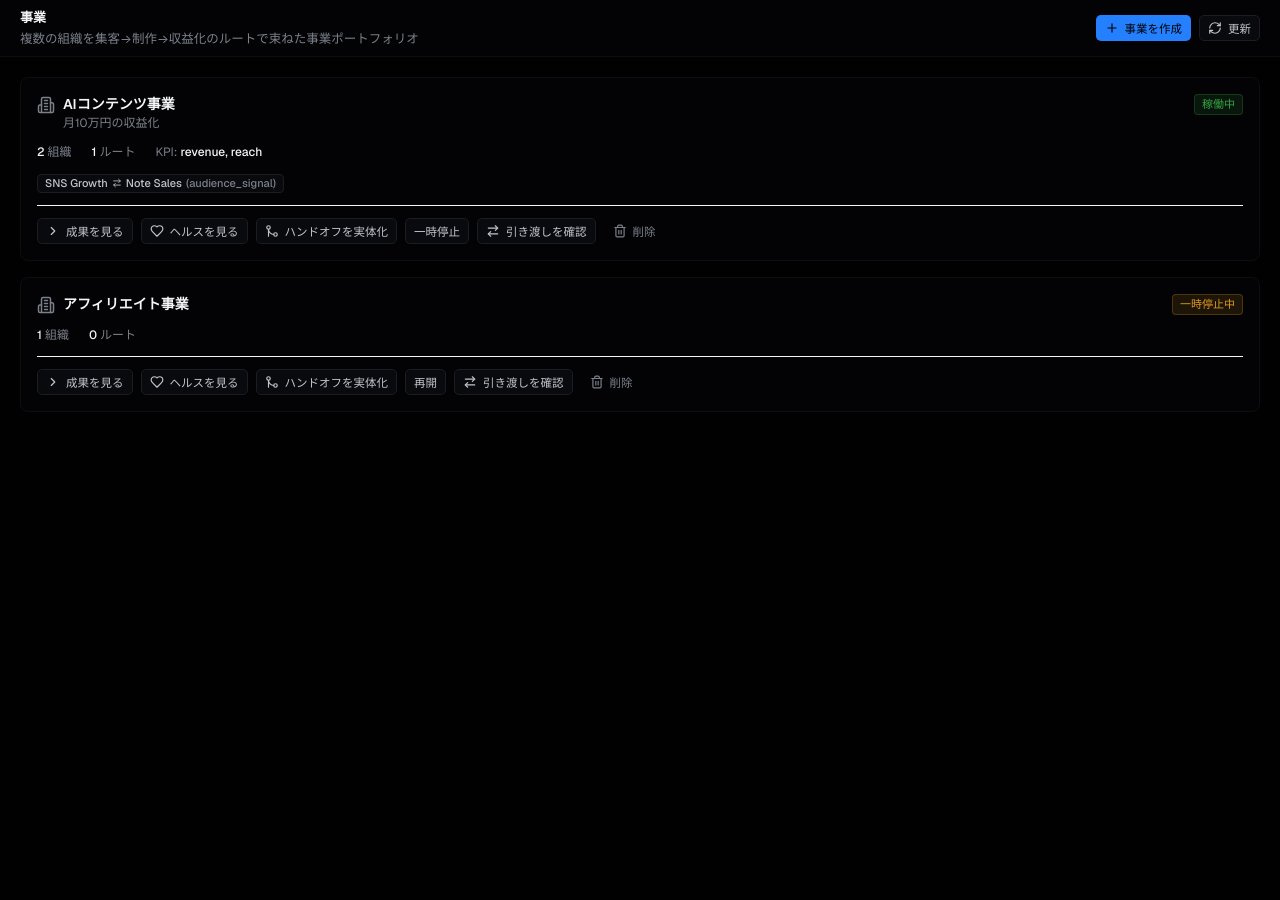
成果パネルを再クリックで閉じる
This screenshot has width=1280, height=900.
Expected: the text "AIコンテンツ事業" is shown, 63,94 -> 175,115
Click the button "成果を見る" below "SNS Growth" at (85, 231), box 37,218 -> 132,244
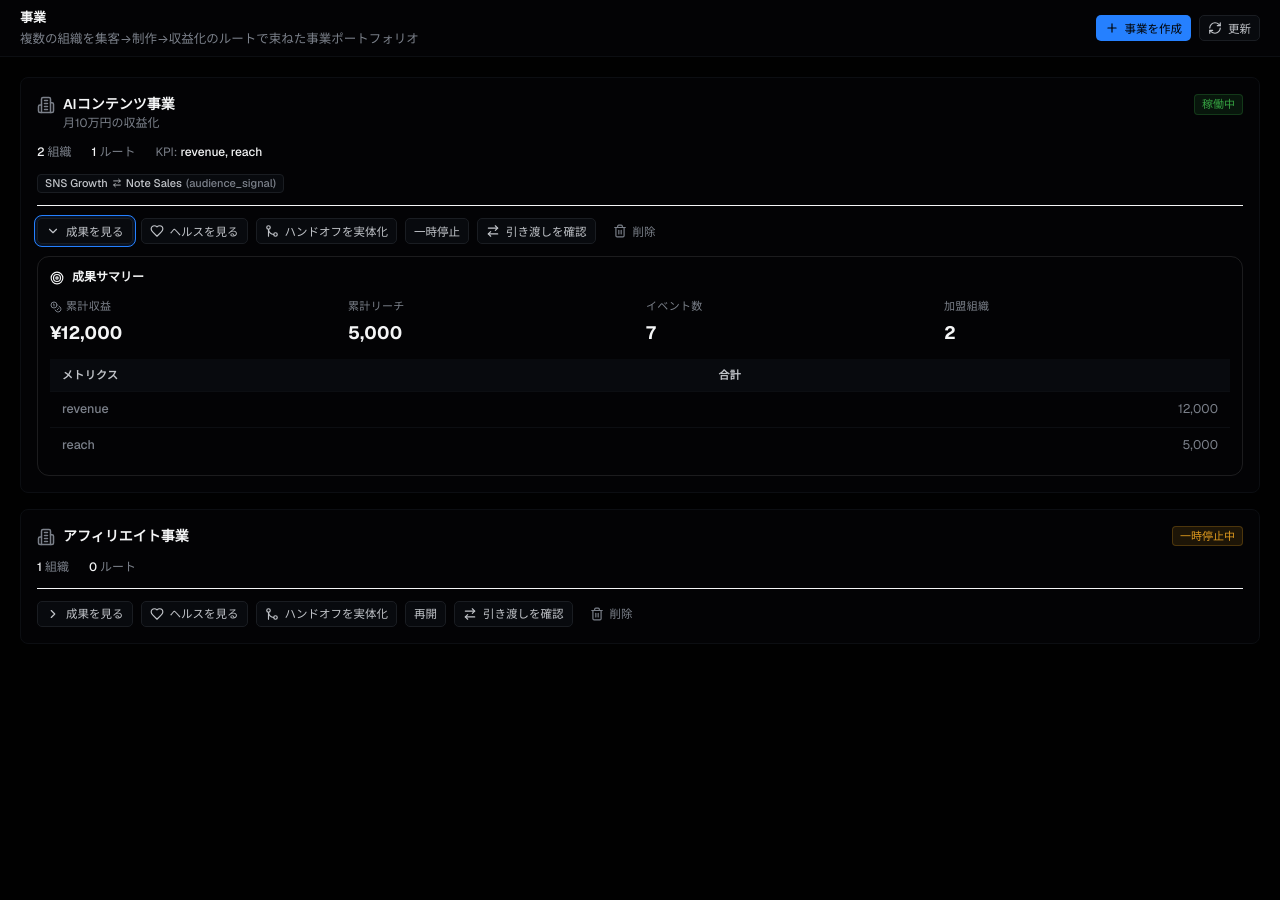
Now the text "成果サマリー" is shown, box 50,269 -> 144,285
Click the button "成果を見る" below "SNS Growth" at (85, 231), box 37,218 -> 132,244
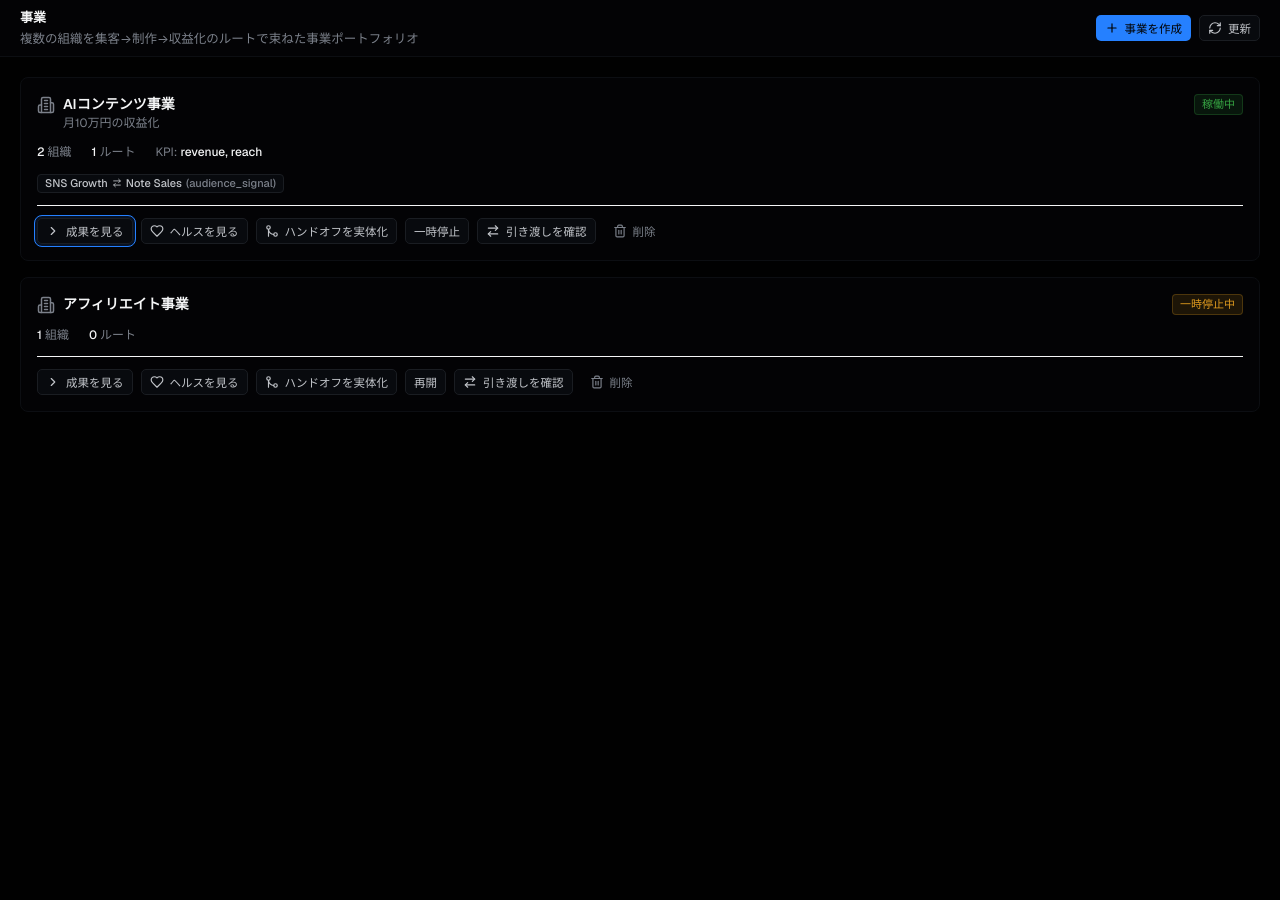
Now the text "成果サマリー" is gone
